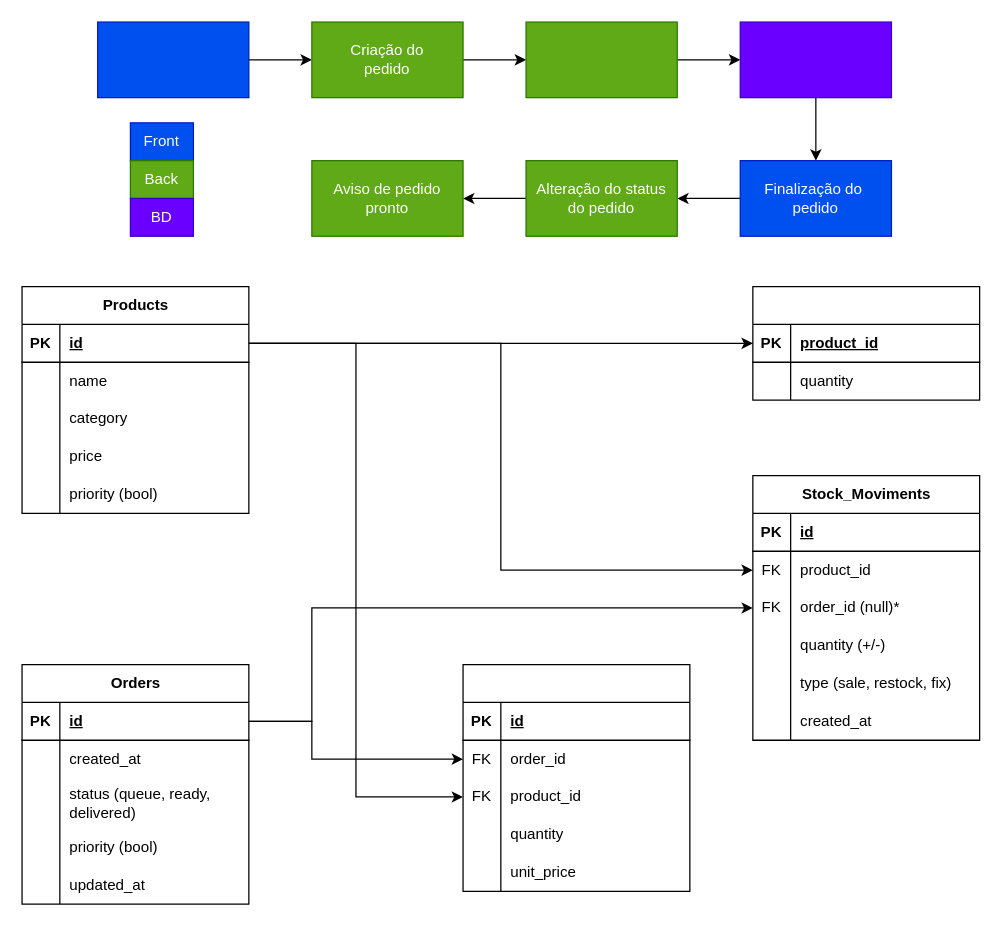
Some shapes in this 1002 by 926 pixel diagram are drawn without their labels. Each missing label, with the box of its shape:
*Alteração no total estoque*: (739, 21, 891, 98)
Movimentação do estoque: (525, 21, 677, 98)
Orders_Items: (462, 663, 690, 891)
Pagamento do pedido: (96, 21, 249, 98)
Stock (trigger only): (752, 285, 980, 400)
